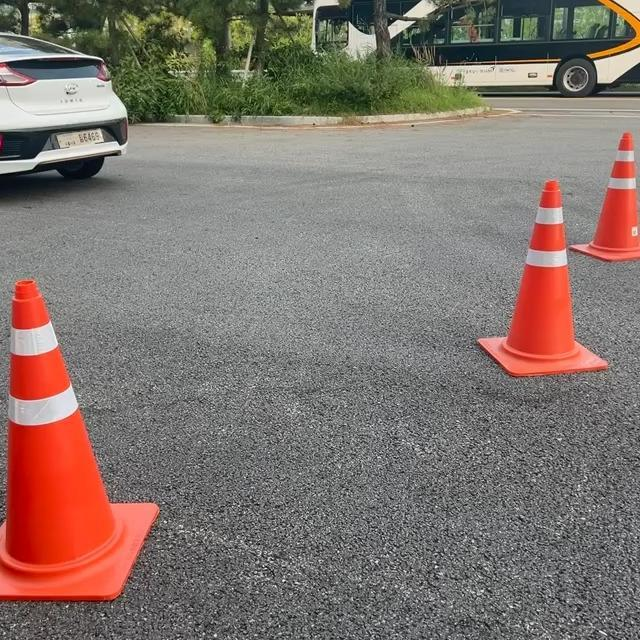fallen_object: (0, 242, 170, 628), (415, 153, 612, 393), (560, 120, 640, 288)
